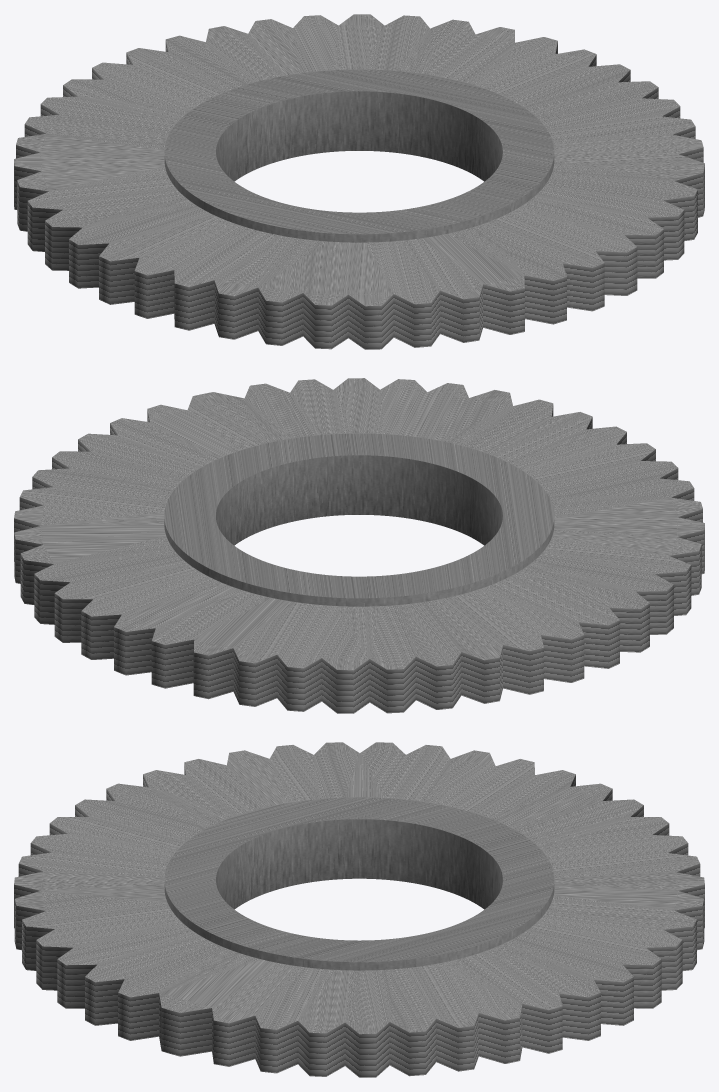
File: Gear.FBX
The picture shows the model from 3 angles, top to bottom: view 1: azimuth 30°, elevation 25°; view 2: azimuth 150°, elevation 25°; view 3: azimuth 270°, elevation 25°; orthographic projection.
Parts seen in each view (by area): view 1: Cylinder001, Cylinder002; view 2: Cylinder001, Cylinder002; view 3: Cylinder001, Cylinder002.
Part boxes in pixels (left/top/right/bottom): Cylinder001: left=14, top=14, right=704, bottom=349; Cylinder002: left=164, top=69, right=554, bottom=242; Cylinder001: left=14, top=378, right=704, bottom=713; Cylinder002: left=164, top=433, right=554, bottom=606; Cylinder001: left=14, top=742, right=704, bottom=1077; Cylinder002: left=164, top=797, right=554, bottom=970.
Size of the model in its own units: 9.12 by 0.8678 by 9.13.
Materials: 2 (2 with a texture image).
